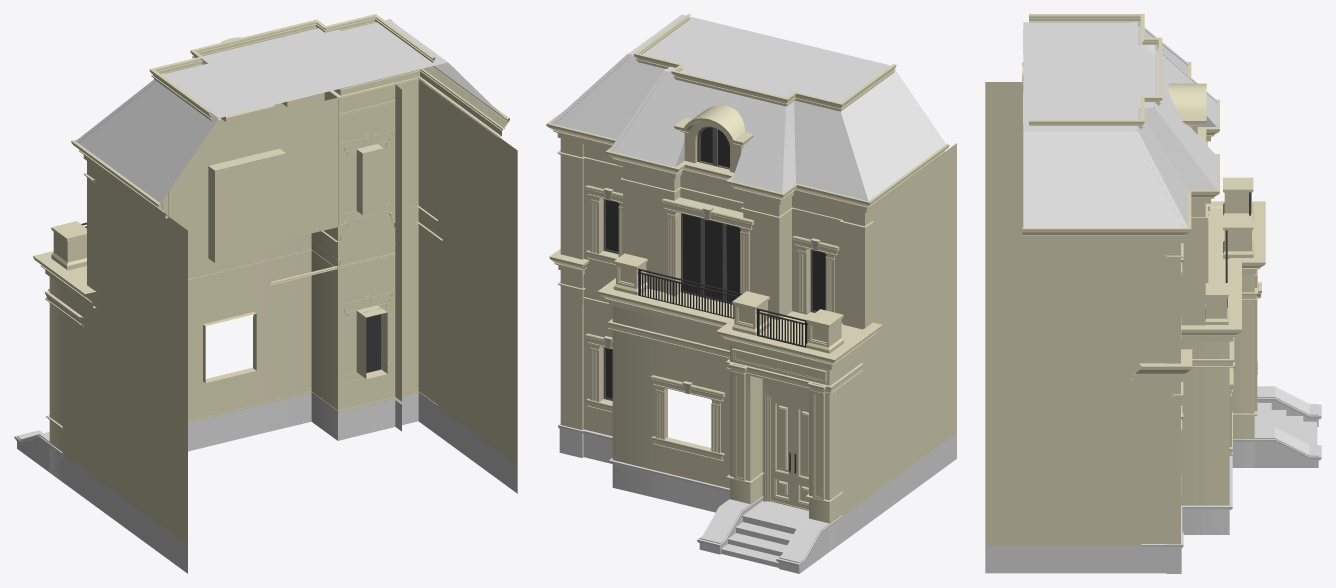
The model's file is facade.fbx.
3 views of the same model, side by side, from view 1: azimuth 30°, elevation 25°; view 2: azimuth 150°, elevation 25°; view 3: azimuth 270°, elevation 25° (orthographic). The views are drawn at different scales.
Visible parts, largest first — view 1: Main, Cube.002, Plane.007, Plane.017, Plane.008, Plane.009, Plane.011; view 2: Main, Cube.002, Plane.007, Plane.008, Plane.011, Plane.016, Plane.009, Plane.013, Plane.017, Plane.004, Plane.014, Cube.006 (+5 smaller); view 3: Main, Cube.002, Plane.007, Plane.008, Plane.011, Plane.017, Plane.009.
Part boxes in pixels (x1,y1,x2,y2): Main: (49, 77, 517, 573); Cube.002: (76, 19, 505, 203); Plane.007: (71, 37, 509, 226); Plane.017: (149, 14, 435, 121); Plane.008: (14, 205, 442, 455); Plane.009: (44, 100, 395, 428); Plane.011: (17, 430, 49, 472); Main: (559, 138, 956, 551); Cube.002: (550, 14, 945, 201); Plane.007: (546, 105, 949, 320); Plane.008: (549, 249, 882, 567); Plane.011: (699, 499, 829, 573); Plane.016: (770, 397, 808, 510); Plane.009: (557, 150, 873, 503); Plane.013: (661, 197, 754, 296); Plane.017: (633, 14, 896, 111); Plane.004: (650, 375, 725, 461); Plane.014: (792, 236, 839, 312); Cube.006: (642, 274, 736, 318); Main: (985, 82, 1257, 573); Cube.002: (1023, 22, 1217, 227); Plane.007: (1022, 62, 1219, 325); Plane.008: (1131, 201, 1321, 548); Plane.011: (1254, 386, 1318, 467); Plane.017: (1029, 14, 1162, 128); Plane.009: (1165, 141, 1261, 415).
Bounding box in the file's own units: 1035 × 1221 × 879.
